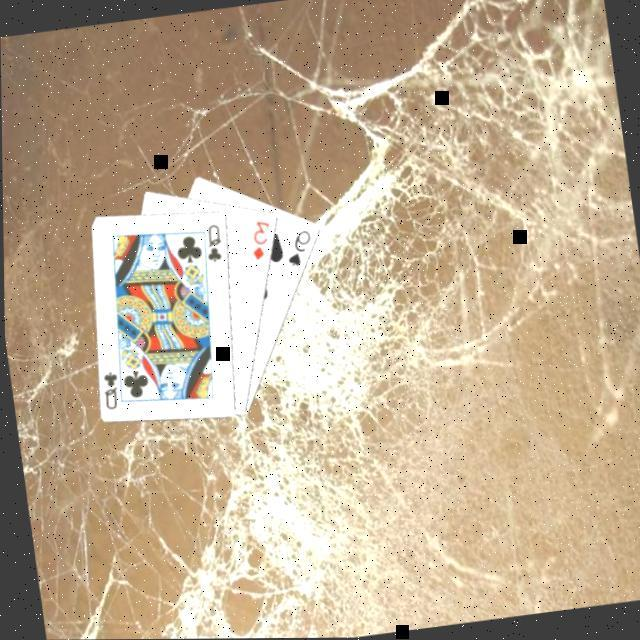3D: (246, 215, 278, 262)
9S: (281, 224, 319, 270)
QC: (201, 218, 228, 264), (98, 366, 125, 412)
